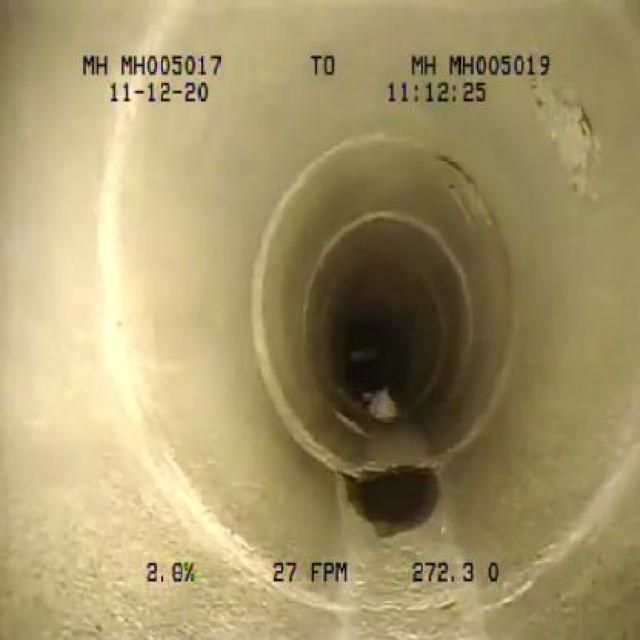Hole: (522, 77, 622, 218)
